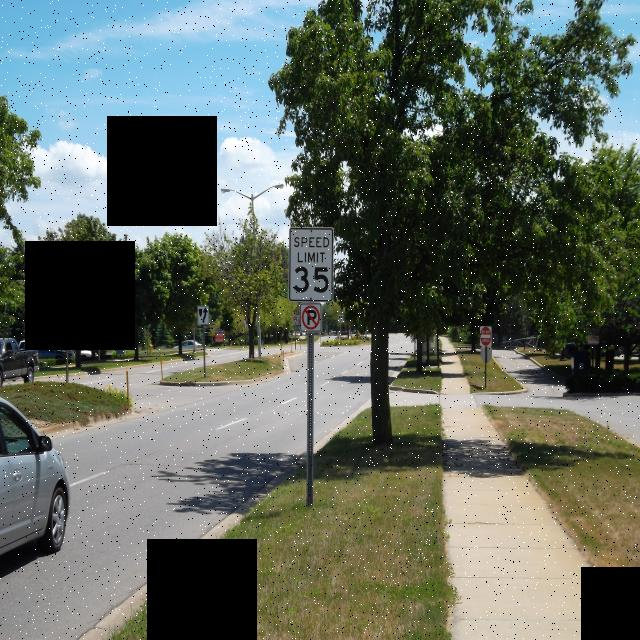regulatory: (286, 226, 338, 304), (297, 303, 324, 335), (56, 280, 79, 303), (196, 304, 212, 326), (292, 315, 299, 324), (338, 314, 344, 323)
